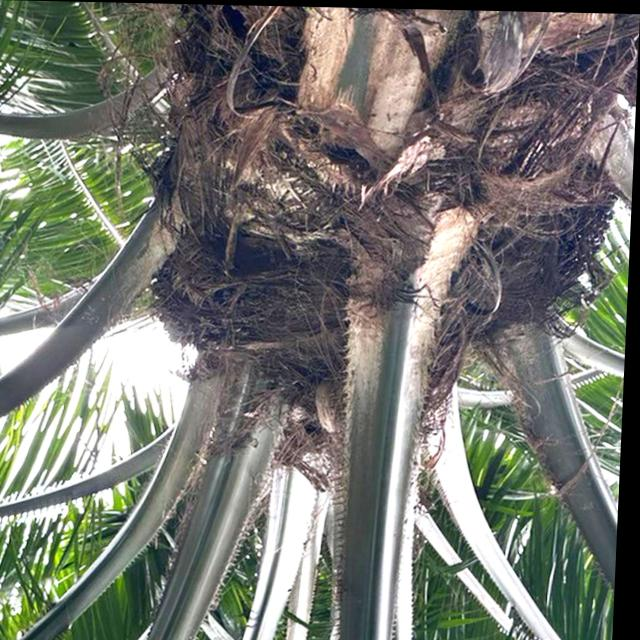unripe: (149, 233, 291, 361)
